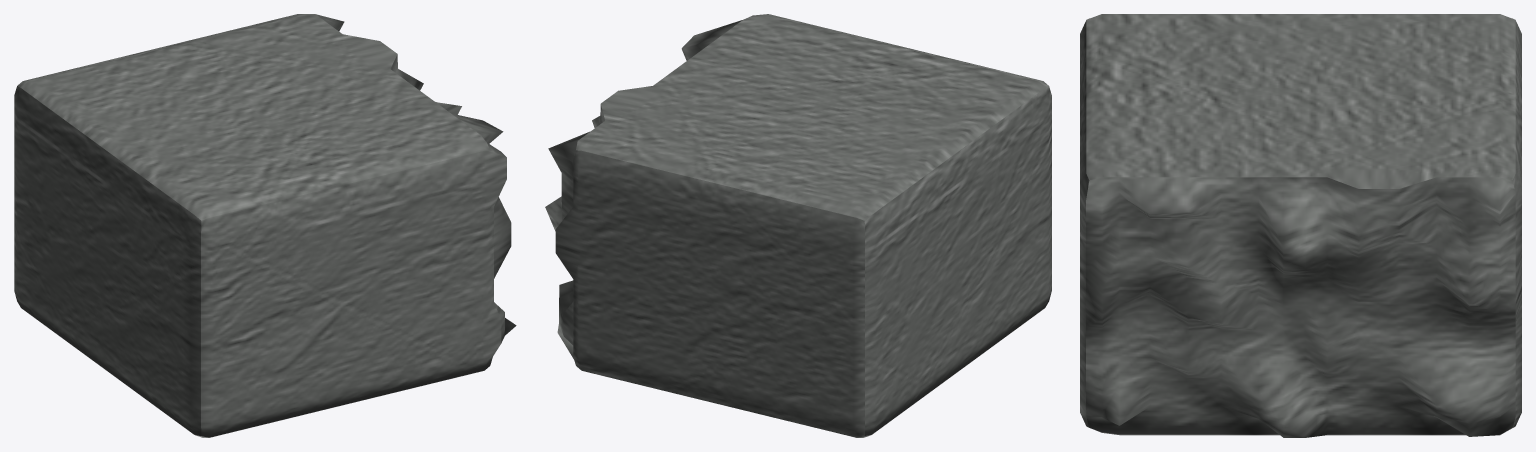
The model's file is broken_brick.fbx.
The picture shows the model from 3 angles, left to right: view 1: azimuth 30°, elevation 25°; view 2: azimuth 150°, elevation 25°; view 3: azimuth 270°, elevation 25°; orthographic projection. The views are drawn at different scales.
Visible parts, largest first — view 1: pCube1; view 2: pCube1; view 3: pCube1.
Part boxes in pixels (x1=…): pCube1: x1=14, y1=14, x2=516, y2=437; pCube1: x1=545, y1=14, x2=1051, y2=437; pCube1: x1=1080, y1=14, x2=1521, y2=437.
Size of the model in its own units: 1.5 by 0.9423 by 1.43.
1 material, 1 textured.
